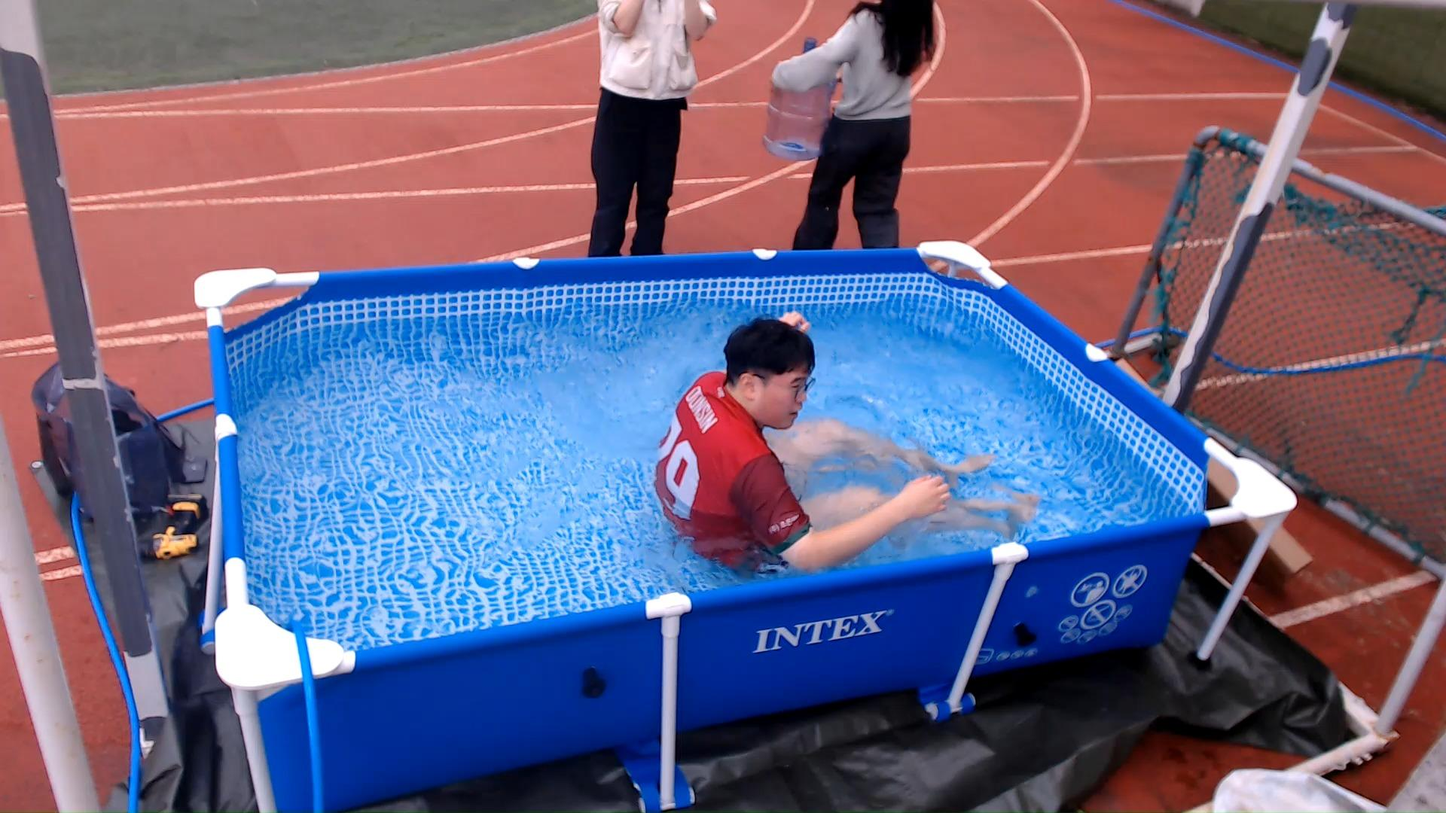Person-out-of-water: (779, 0, 961, 274), (584, 1, 702, 268)
Swimming: (606, 290, 1081, 592)
